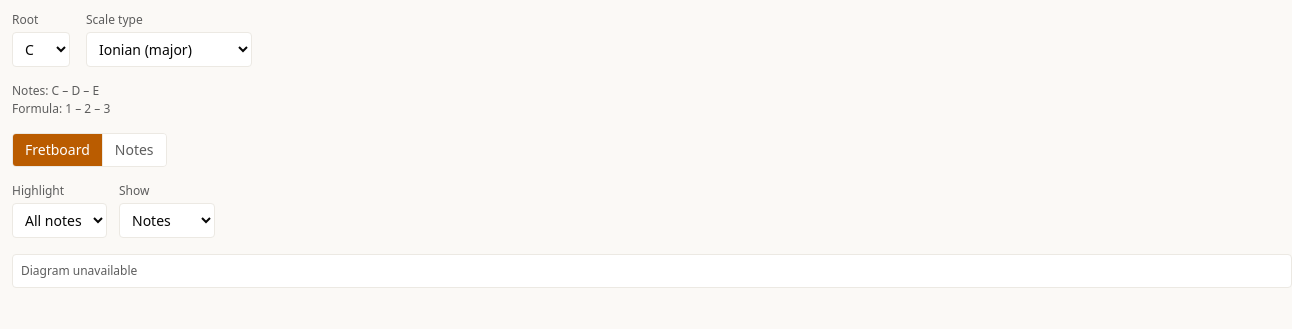
it: ScalePanel › switches to notes view when Notes button is clicked
The width and height of the screenshot is (1292, 329).
Click the button "Notes" at (134, 150), box [102, 134, 166, 166]
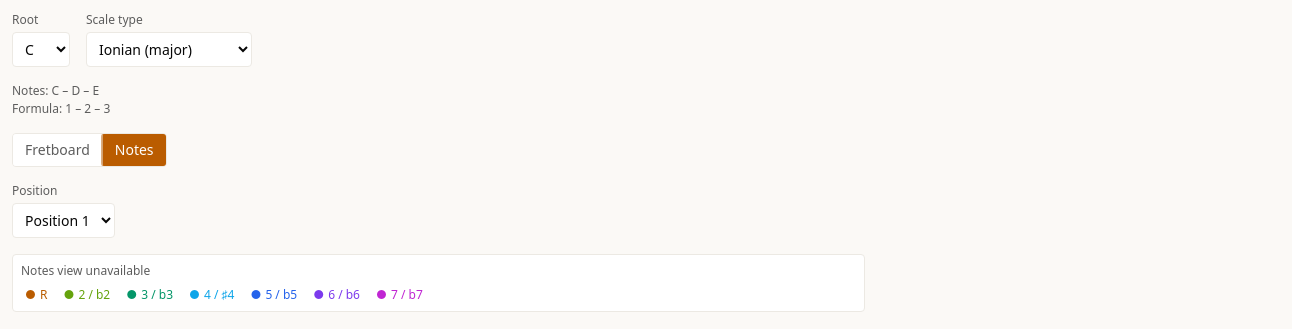
Now the label labelled "Show" is gone
